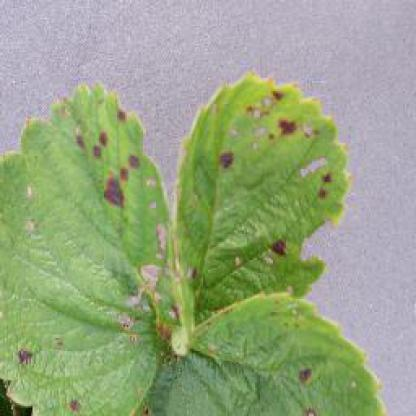leaf scorch: (0, 44, 392, 414)
